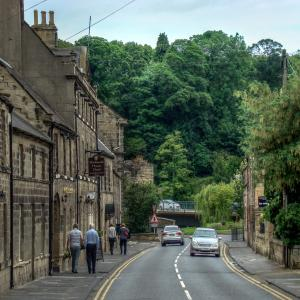Vehicle-registration-plate: (201, 249, 211, 252)
